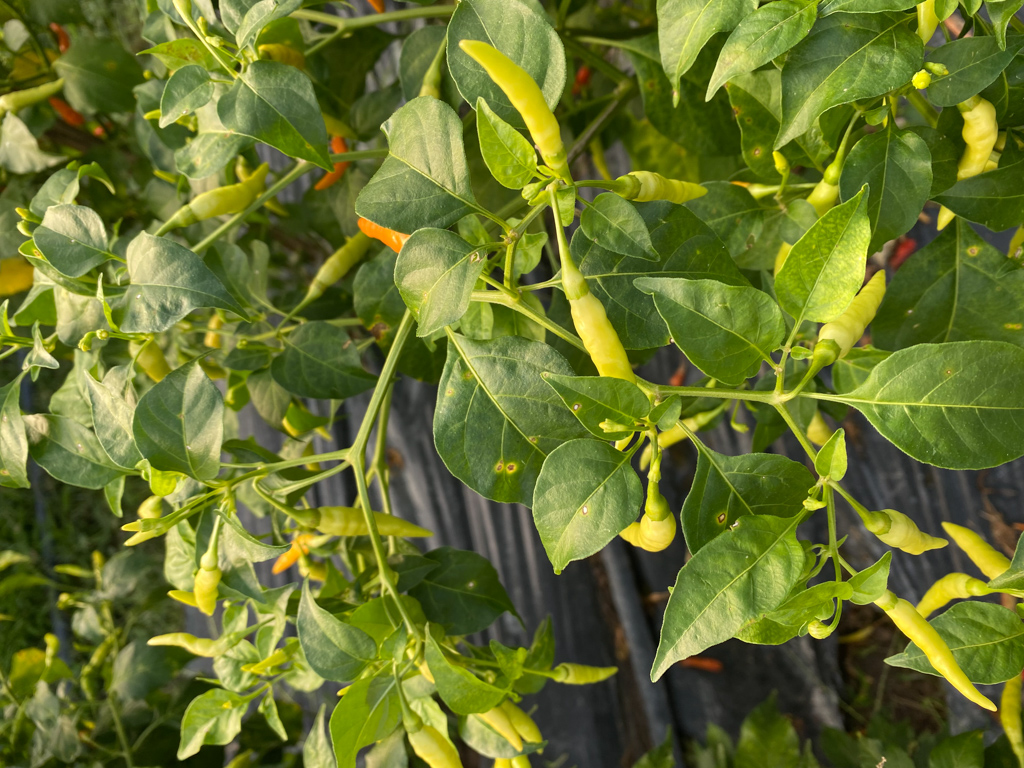frog-eye leafspot: (490, 455, 529, 483), (575, 497, 596, 525), (960, 242, 985, 264), (710, 506, 732, 528), (524, 426, 540, 450), (568, 399, 586, 419), (942, 364, 960, 378)
